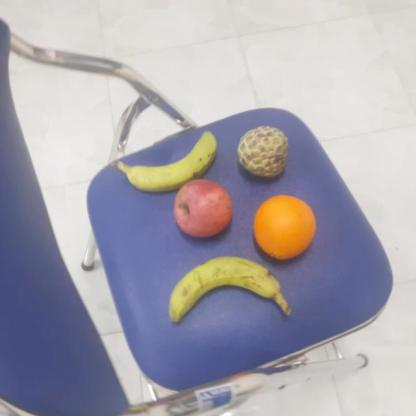annona: (235, 123, 292, 177)
apple: (171, 176, 235, 239)
banana: (165, 255, 285, 324), (129, 125, 221, 193)
orange: (251, 192, 318, 258)
